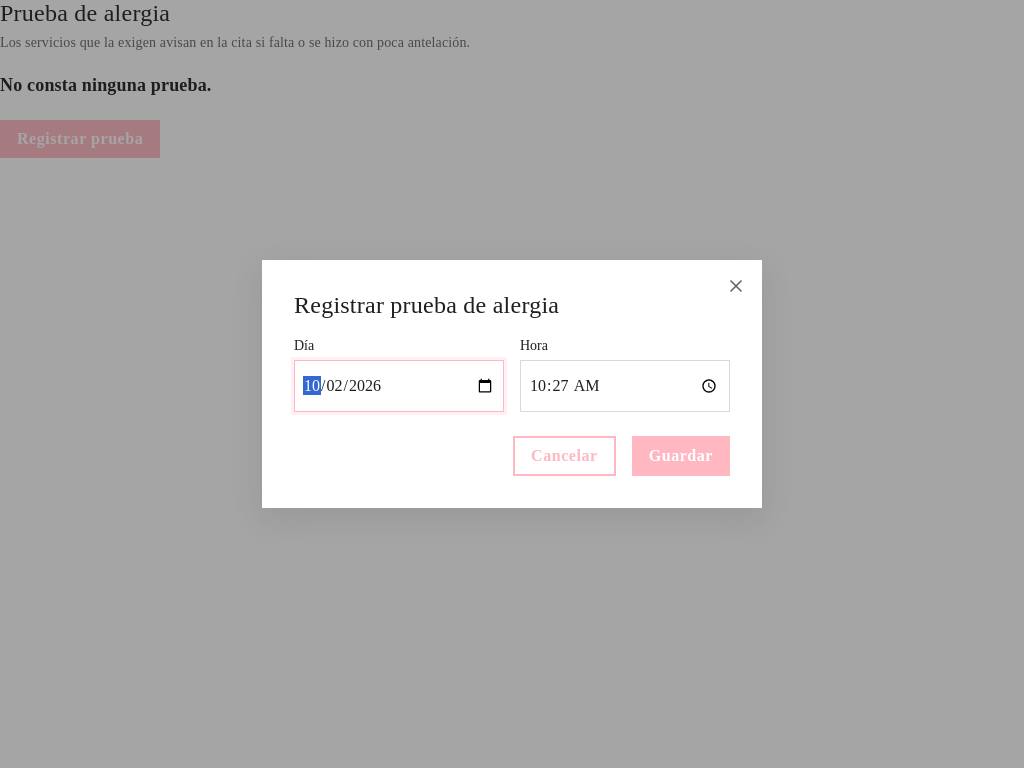
AllergyTestPanel › no deja registrar una prueba futura
Replace the text in the time field with id "allergy-time" with "10:30": (625, 386) x1=520 y1=360 x2=730 y2=412
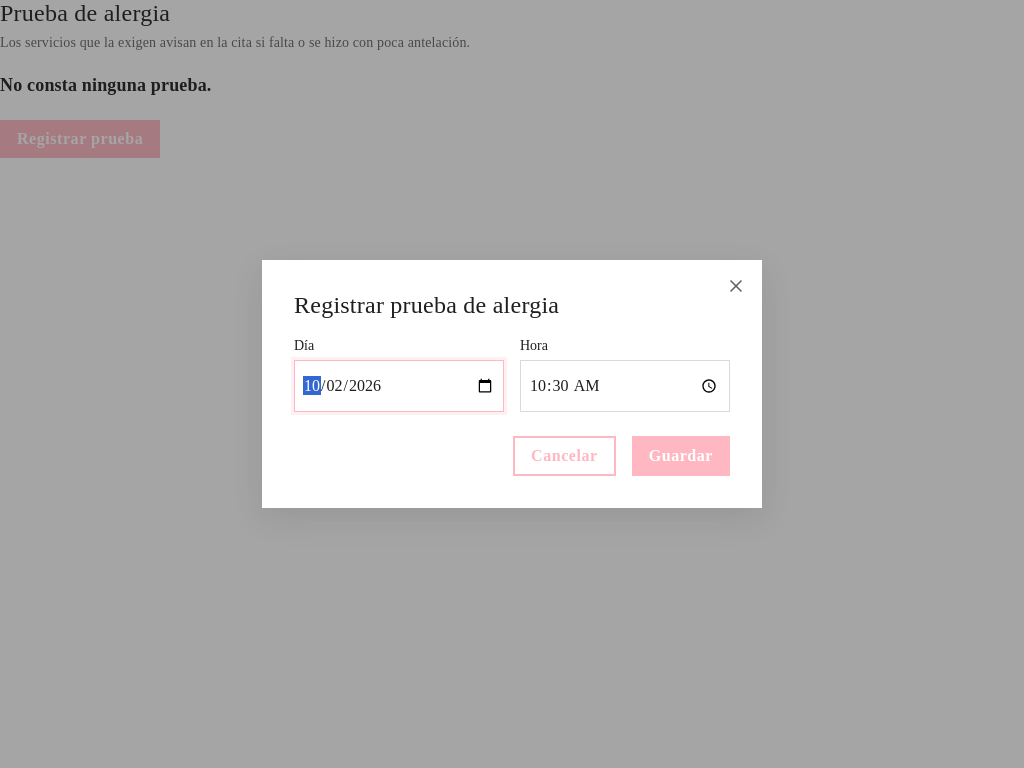
Submit the form with id "allergy-form", box x1=294 y1=335 x2=730 y2=412
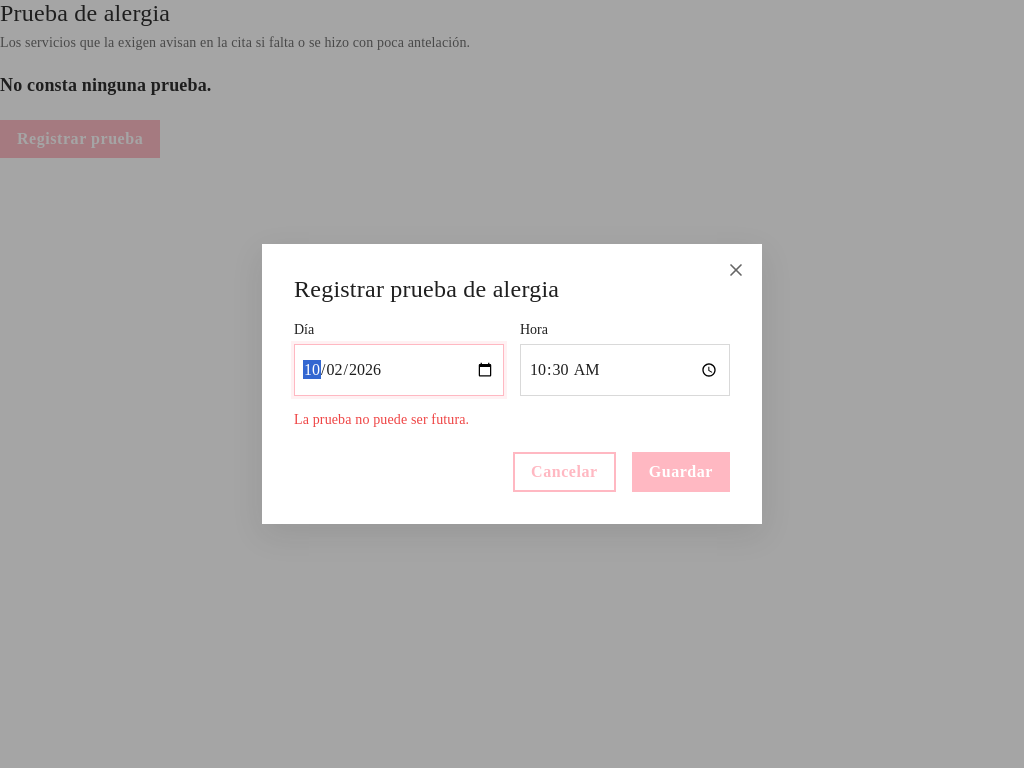
Now the message "La prueba no puede ser futura." is shown, box x1=294 y1=412 x2=469 y2=427
